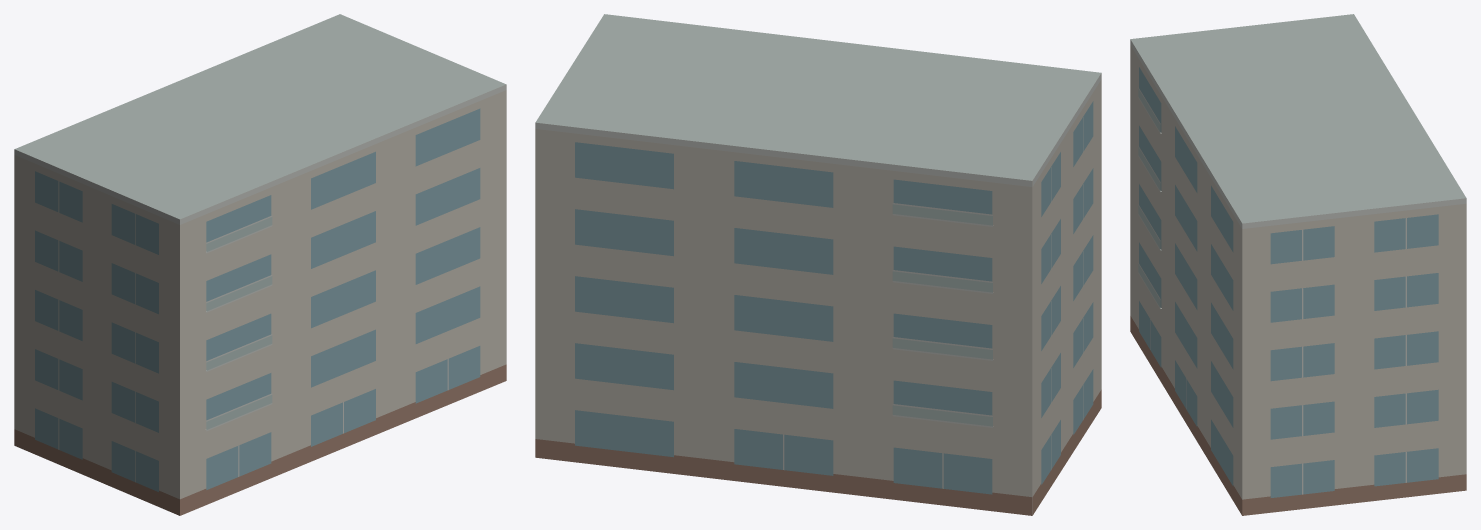
Rendered from survey-upis-32870341.glb.
3 views of the same model, side by side, from view 1: azimuth 30°, elevation 25°; view 2: azimuth 150°, elevation 25°; view 3: azimuth 270°, elevation 25° (orthographic). The views are drawn at different scales.
Visible parts, largest first — view 1: survey-upis-32870341.tmp; view 2: survey-upis-32870341.tmp; view 3: survey-upis-32870341.tmp.
Part boxes in pixels (bbox=[...]): survey-upis-32870341.tmp: bbox=[14, 14, 506, 515]; survey-upis-32870341.tmp: bbox=[535, 14, 1101, 515]; survey-upis-32870341.tmp: bbox=[1130, 14, 1466, 515].
Size of the model in its own units: 20 by 13 by 13.56.
